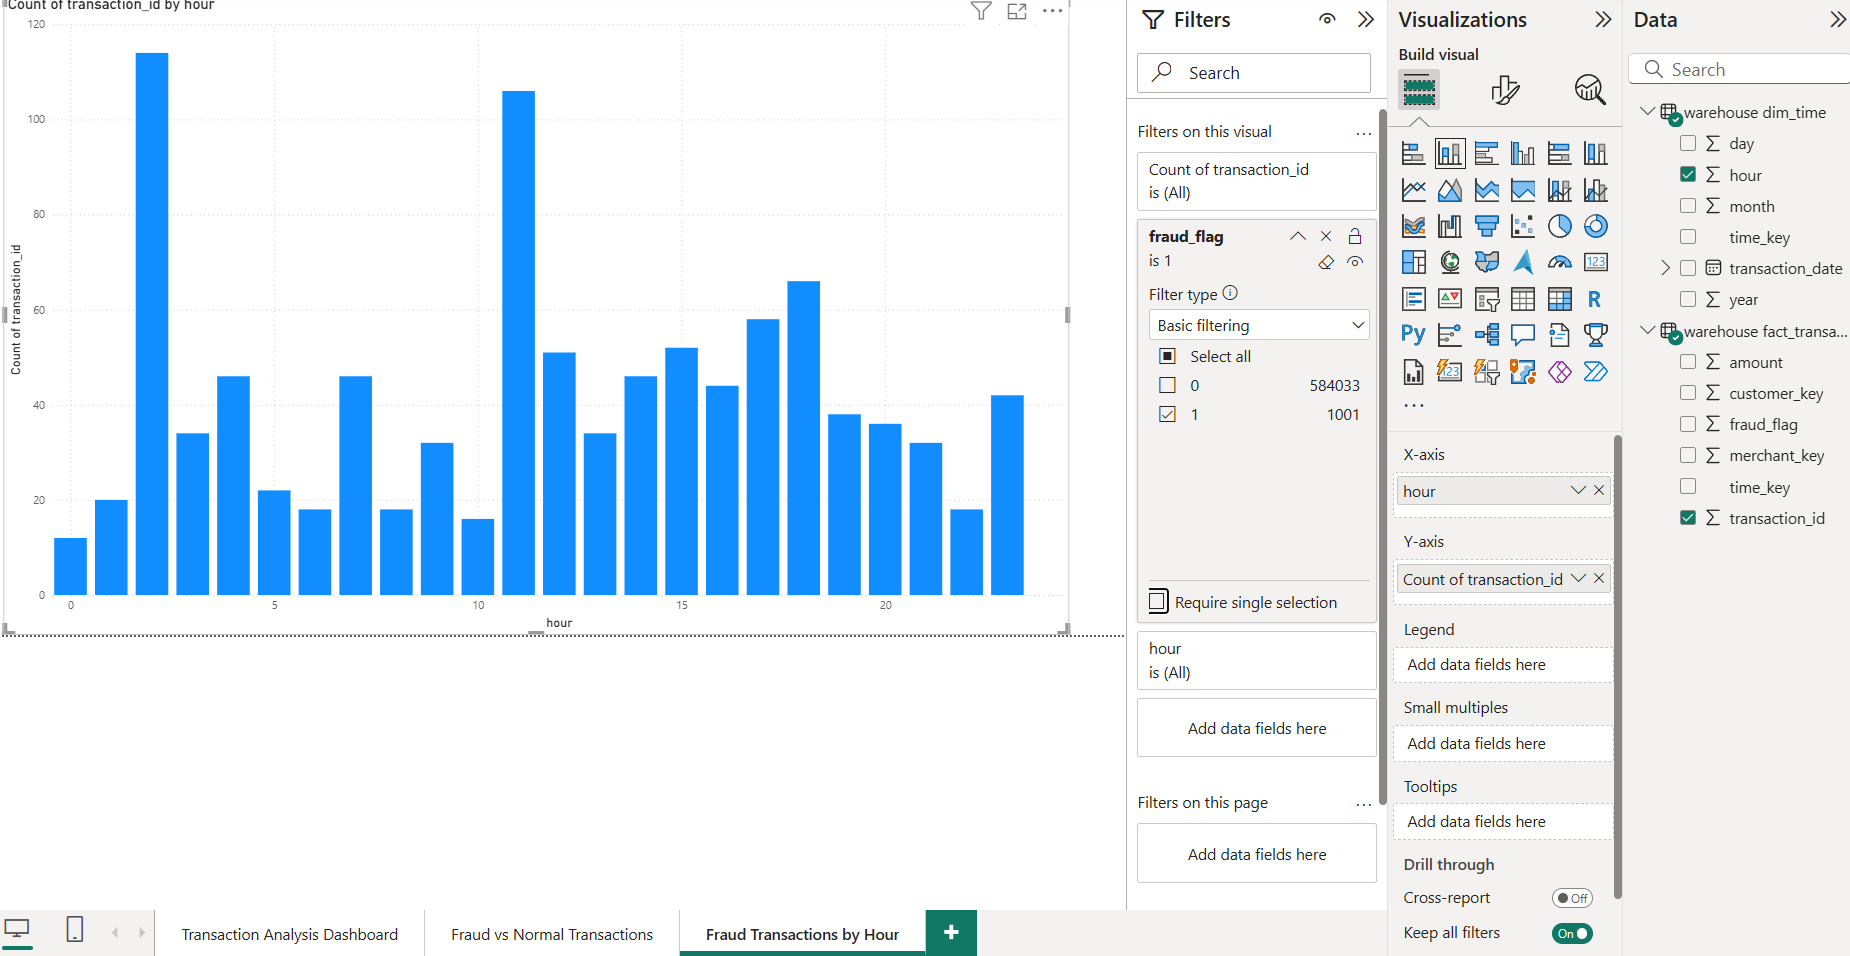

This screenshot's page, from the dashboard's own definition file:
{"tool":"powerbi","page":{"name":"Fraud Transactions by Hour","canvas":[1280,720],"ordinal":2},"visuals":[{"type":"columnChart","fields":{"Category":["warehouse dim_time.hour"],"Y":["CountNonNull(warehouse fact_transactions.transaction_id)"]},"box":[16,0,1200,720],"z":0}]}

Visuals, with their boxes on the page's 1280x720 design canvas (x1, y1, x2, y2). These are canvas units, not pixel positions in the 1850x956 screenshot, which may show the page scaled, cropped or inside an application window:
columnChart - warehouse dim_time.hour x CountNonNull(warehouse fact_transactions.transaction_id): 16 0 1216 720
